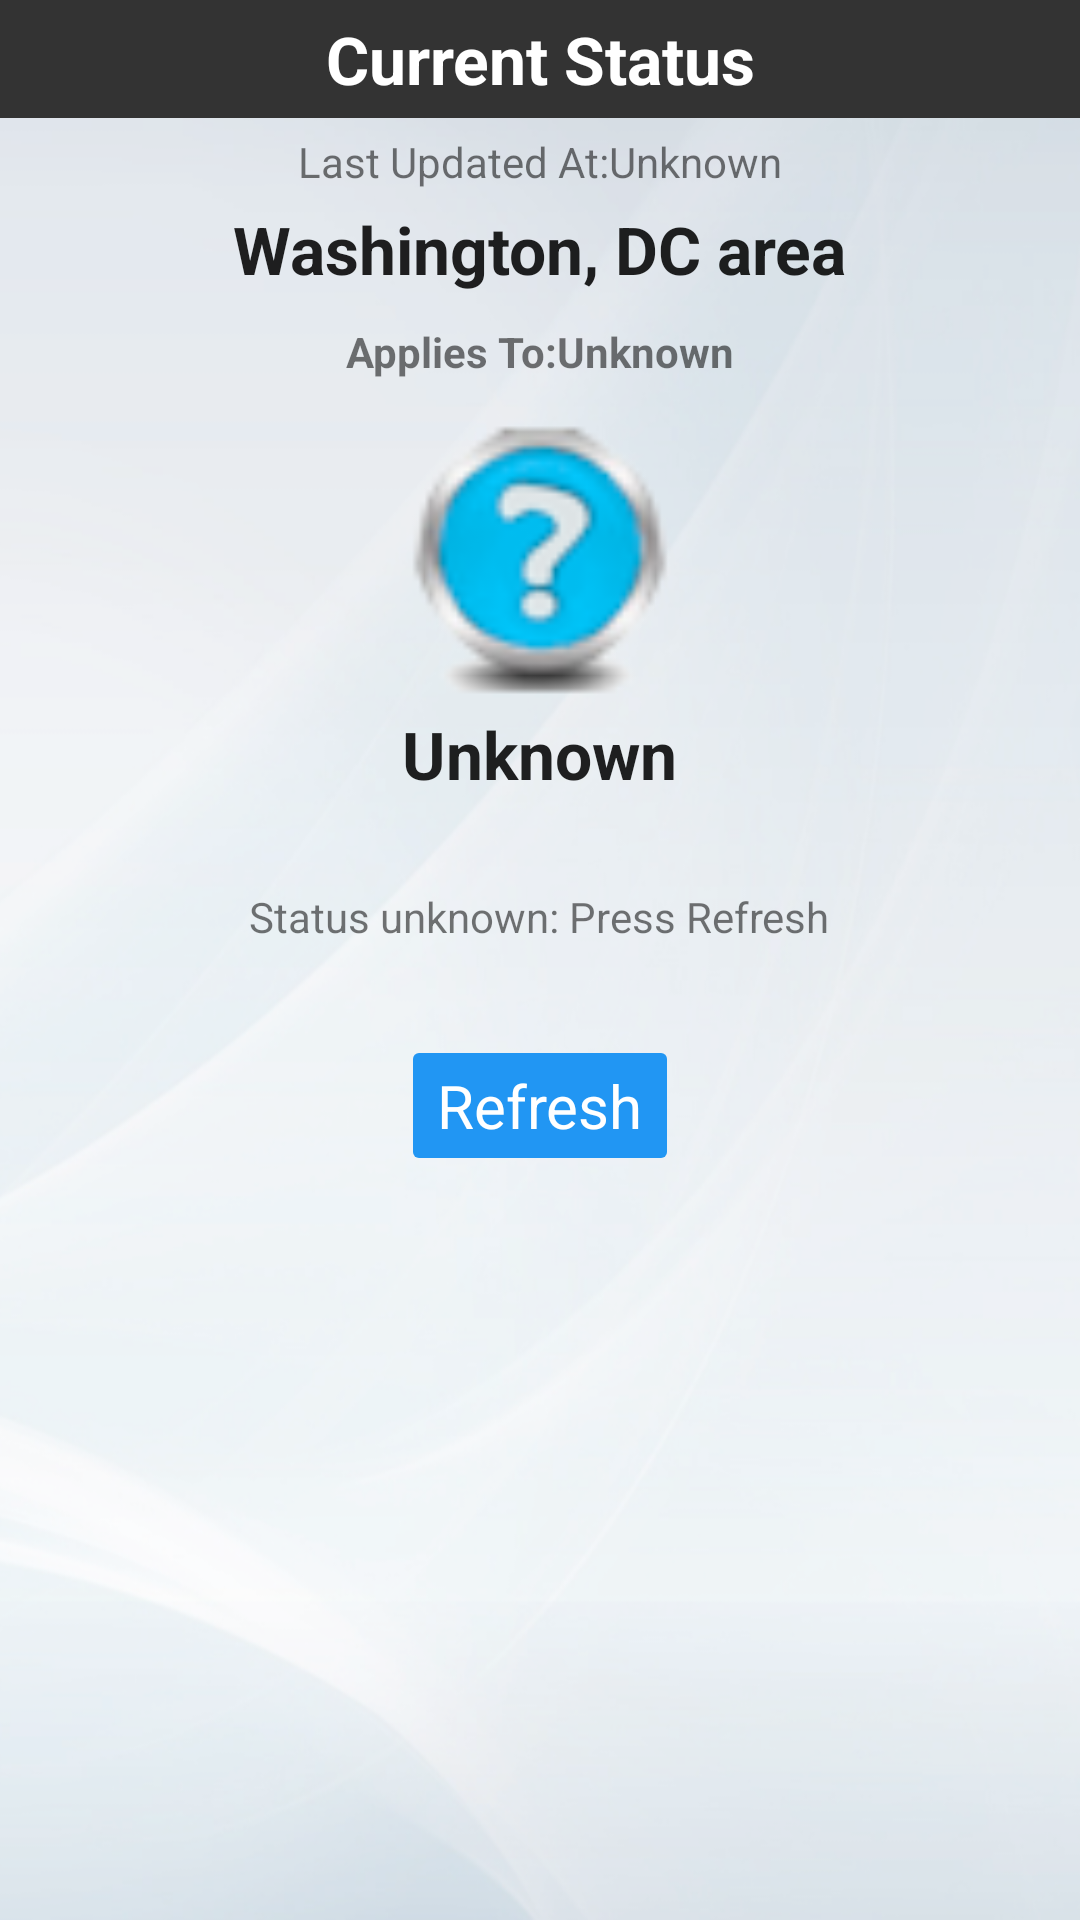

Named icons in this screenshot (1080 × 1920) and their bounding boxes, [x1,y1,x2,y2]:
STATUS: [415,427,665,693]
